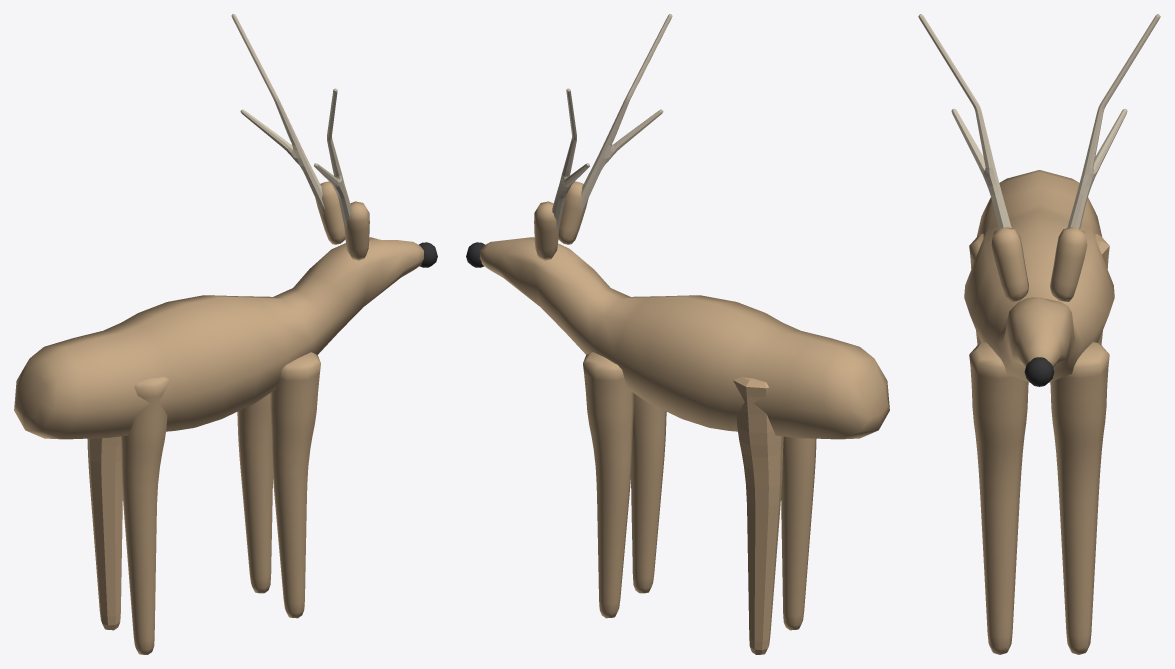
Rendered from deer.glb.
The picture shows the model from 3 angles, left to right: view 1: azimuth 30°, elevation 25°; view 2: azimuth 150°, elevation 25°; view 3: azimuth 270°, elevation 25°; orthographic projection. The views are drawn at different scales.
Parts seen in each view (by area): view 1: Deer, Leg0, Leg2, Leg1, Leg3, Antlers; view 2: Deer, Leg1, Leg3, Leg0, Leg2, Antlers; view 3: Deer, Leg1, Leg0, Antlers, Nose.
Part boxes in pixels (x1,y1,x2,y2): Deer: (14,181,424,439); Leg0: (269,352,320,618); Leg2: (120,377,170,654); Leg1: (237,393,272,593); Leg3: (87,436,122,630); Antlers: (231,14,351,231); Deer: (479,181,889,439); Leg1: (583,352,634,618); Leg3: (733,377,783,654); Leg0: (631,393,666,593); Leg2: (781,436,816,630); Antlers: (552,14,672,231); Deer: (964,170,1114,382); Leg1: (1050,342,1109,654); Leg0: (969,342,1028,654); Antlers: (918,14,1160,229); Nose: (1024,357,1054,386).
Bounding box in the file's own units: 1.53 × 1.96 × 0.6686.
